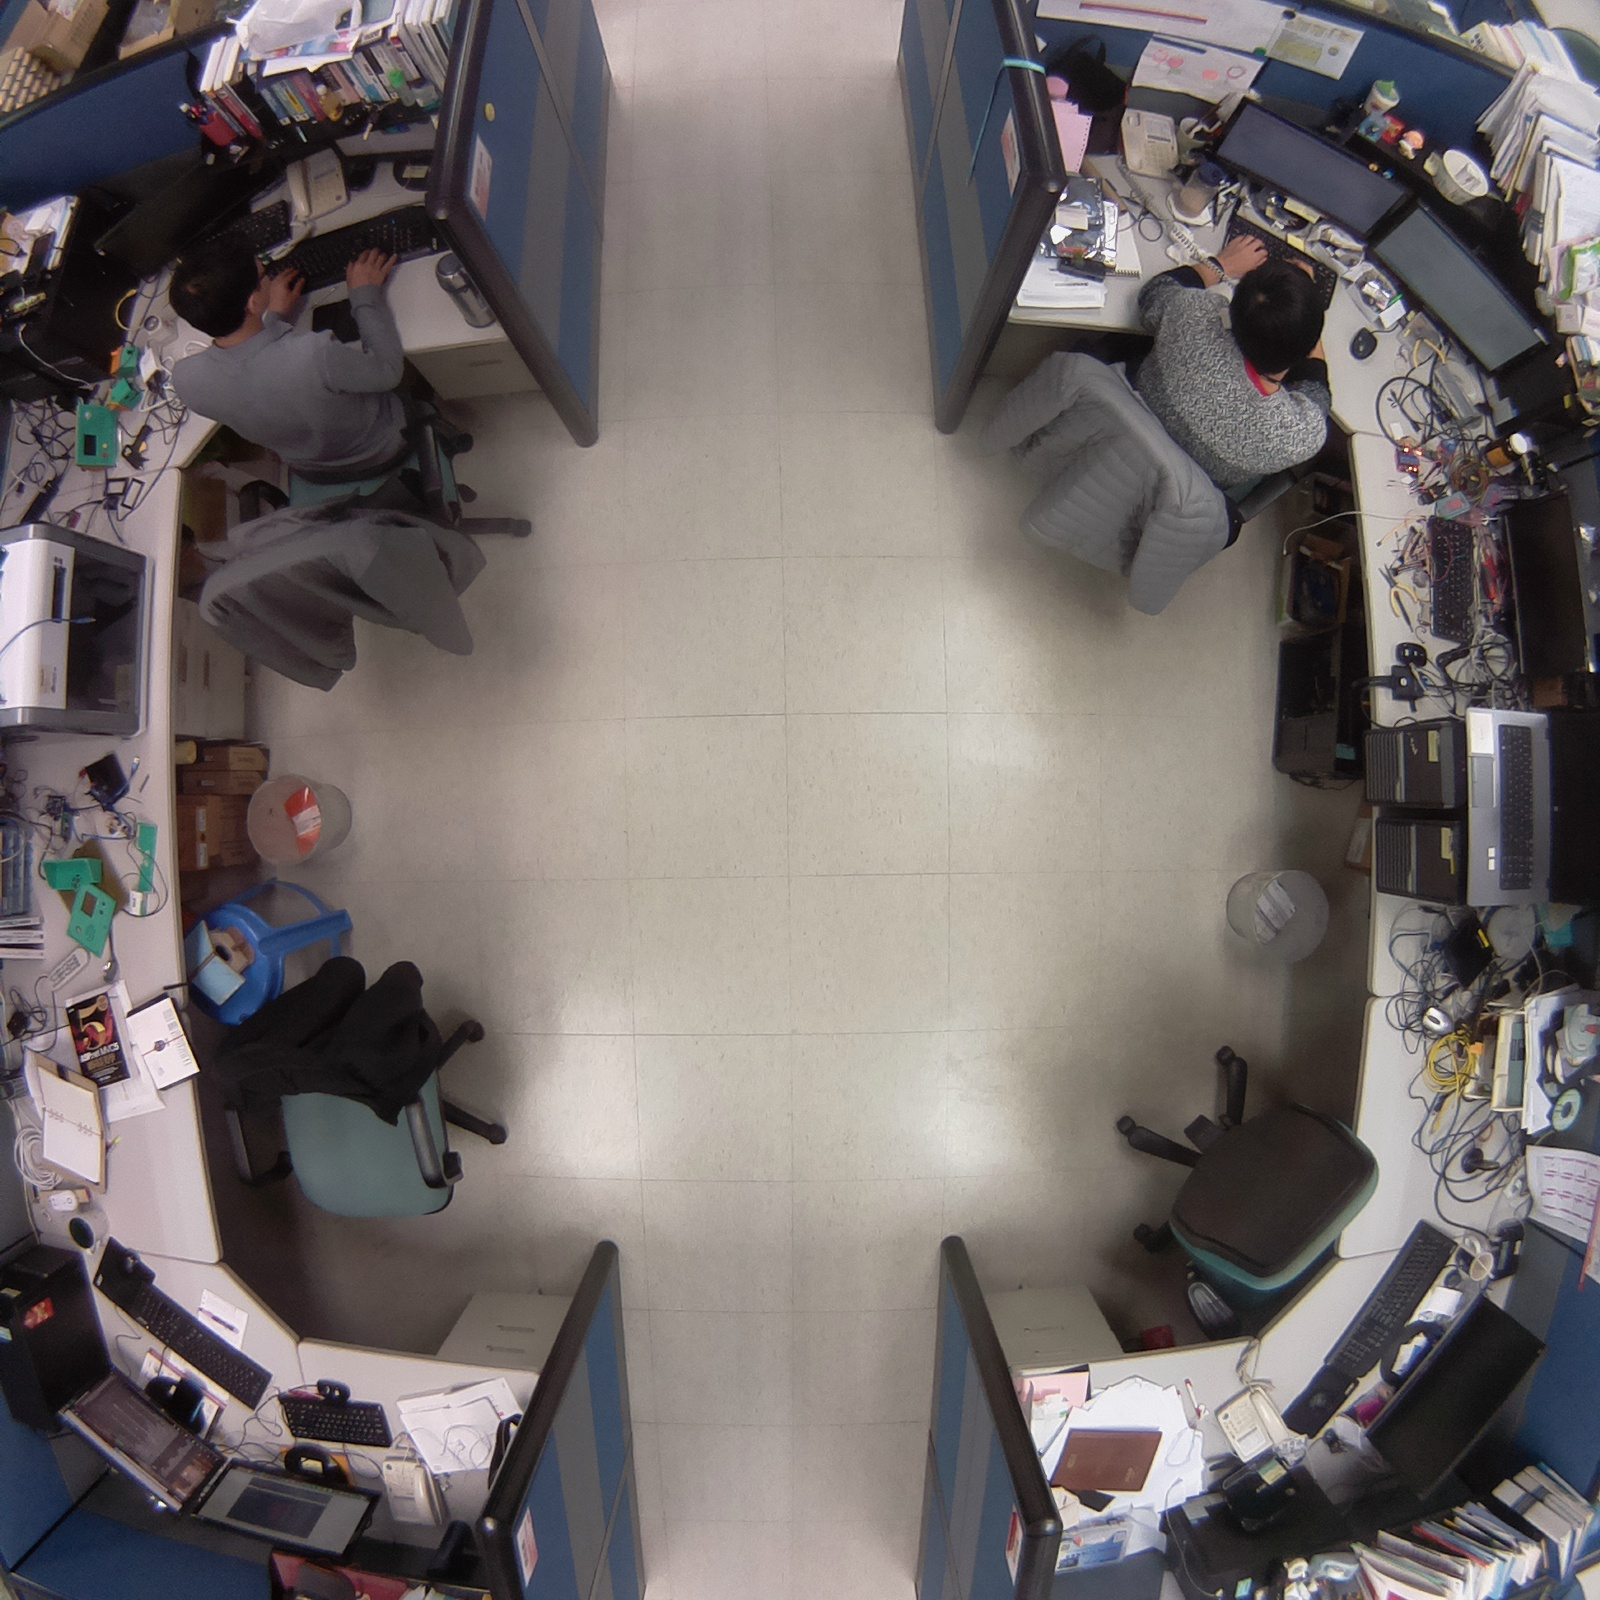chair: (1081, 1029, 1392, 1352), (207, 941, 519, 1244)
sitting: (157, 227, 561, 711), (970, 215, 1363, 640)
